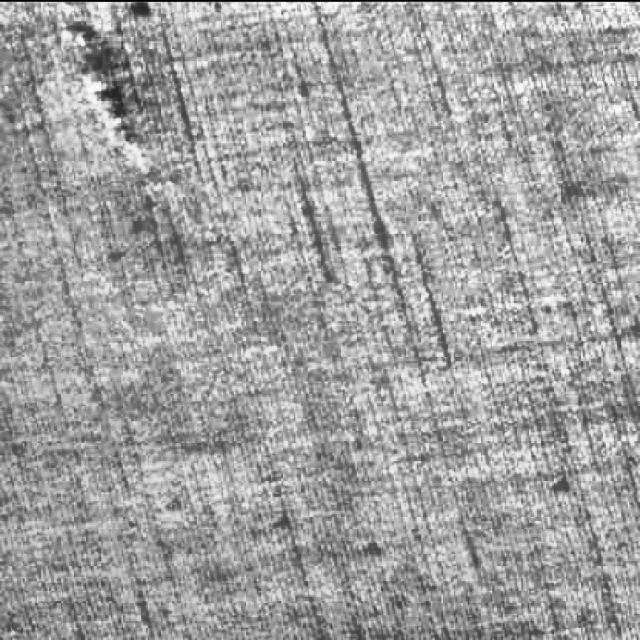thread_error: (56, 17, 172, 197)
